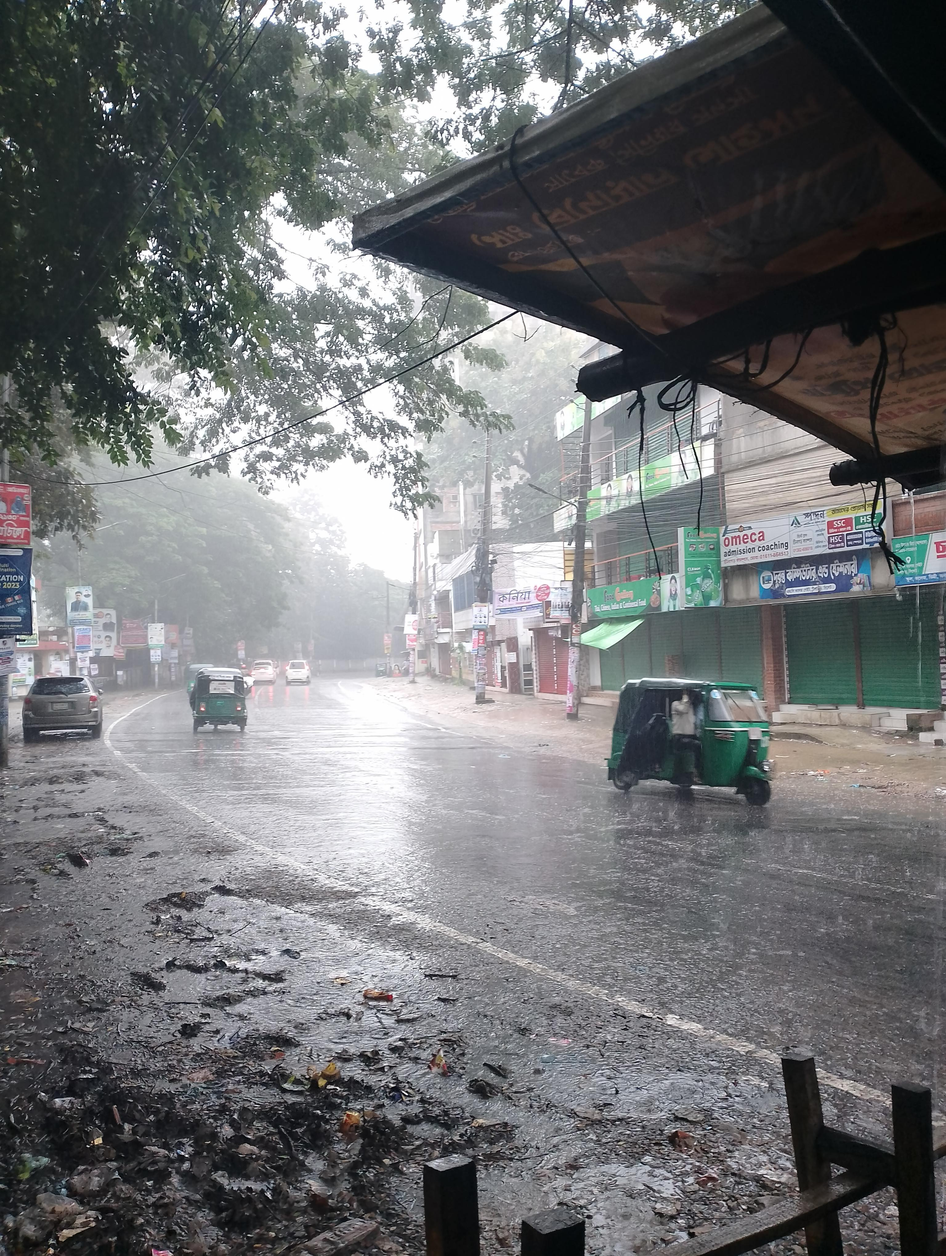Car: (15, 645, 127, 765), (277, 653, 319, 691)
